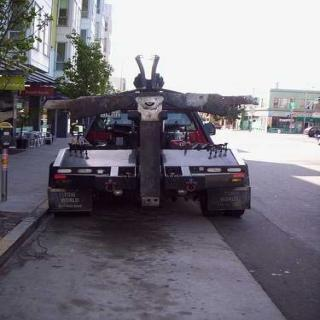Towing_truck: (42, 54, 258, 219)
